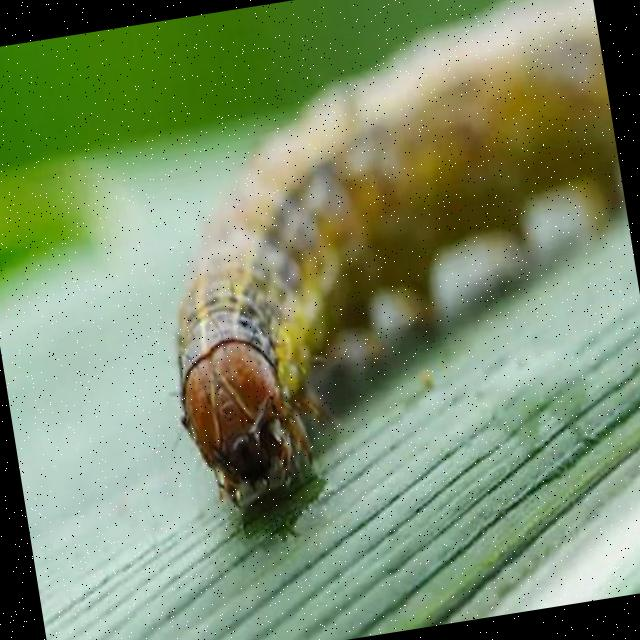worm: (117, 1, 640, 528)
